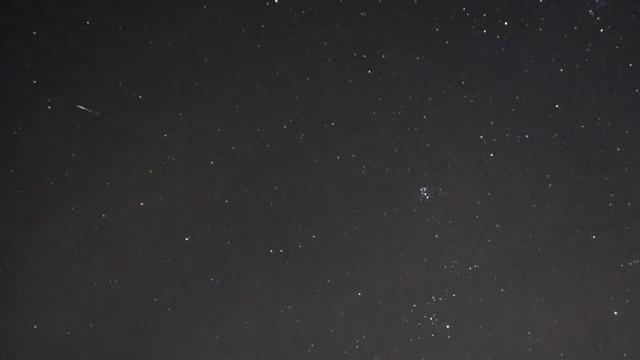meteorite: (67, 96, 171, 139)
